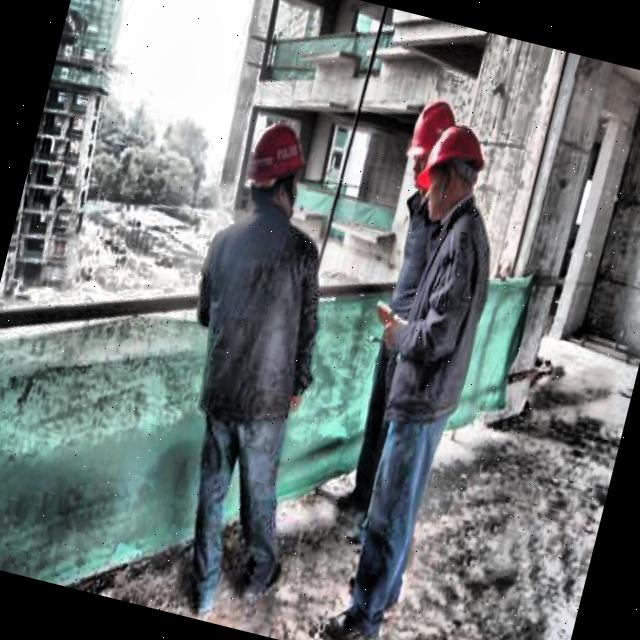helmet: (234, 114, 318, 225), (408, 119, 492, 224), (394, 88, 467, 197)
